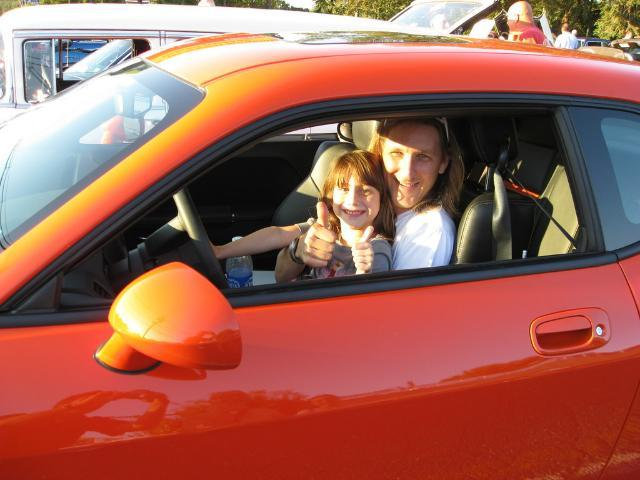Seatbelt: (488, 167, 512, 261)
